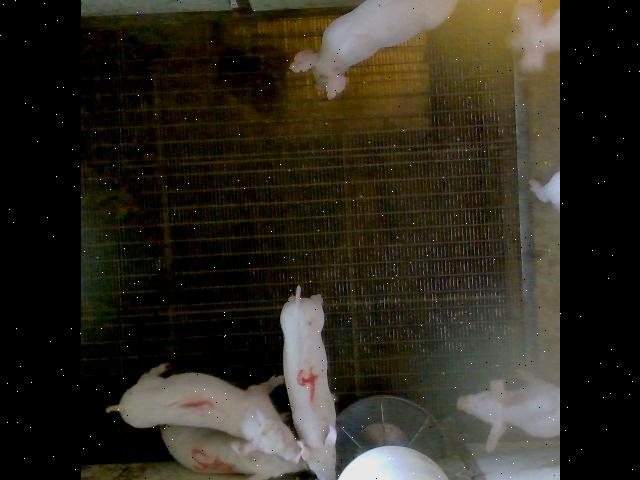pig-1: (105, 364, 300, 462)
pig-4: (279, 286, 336, 480)
pig-5: (160, 425, 306, 480)
